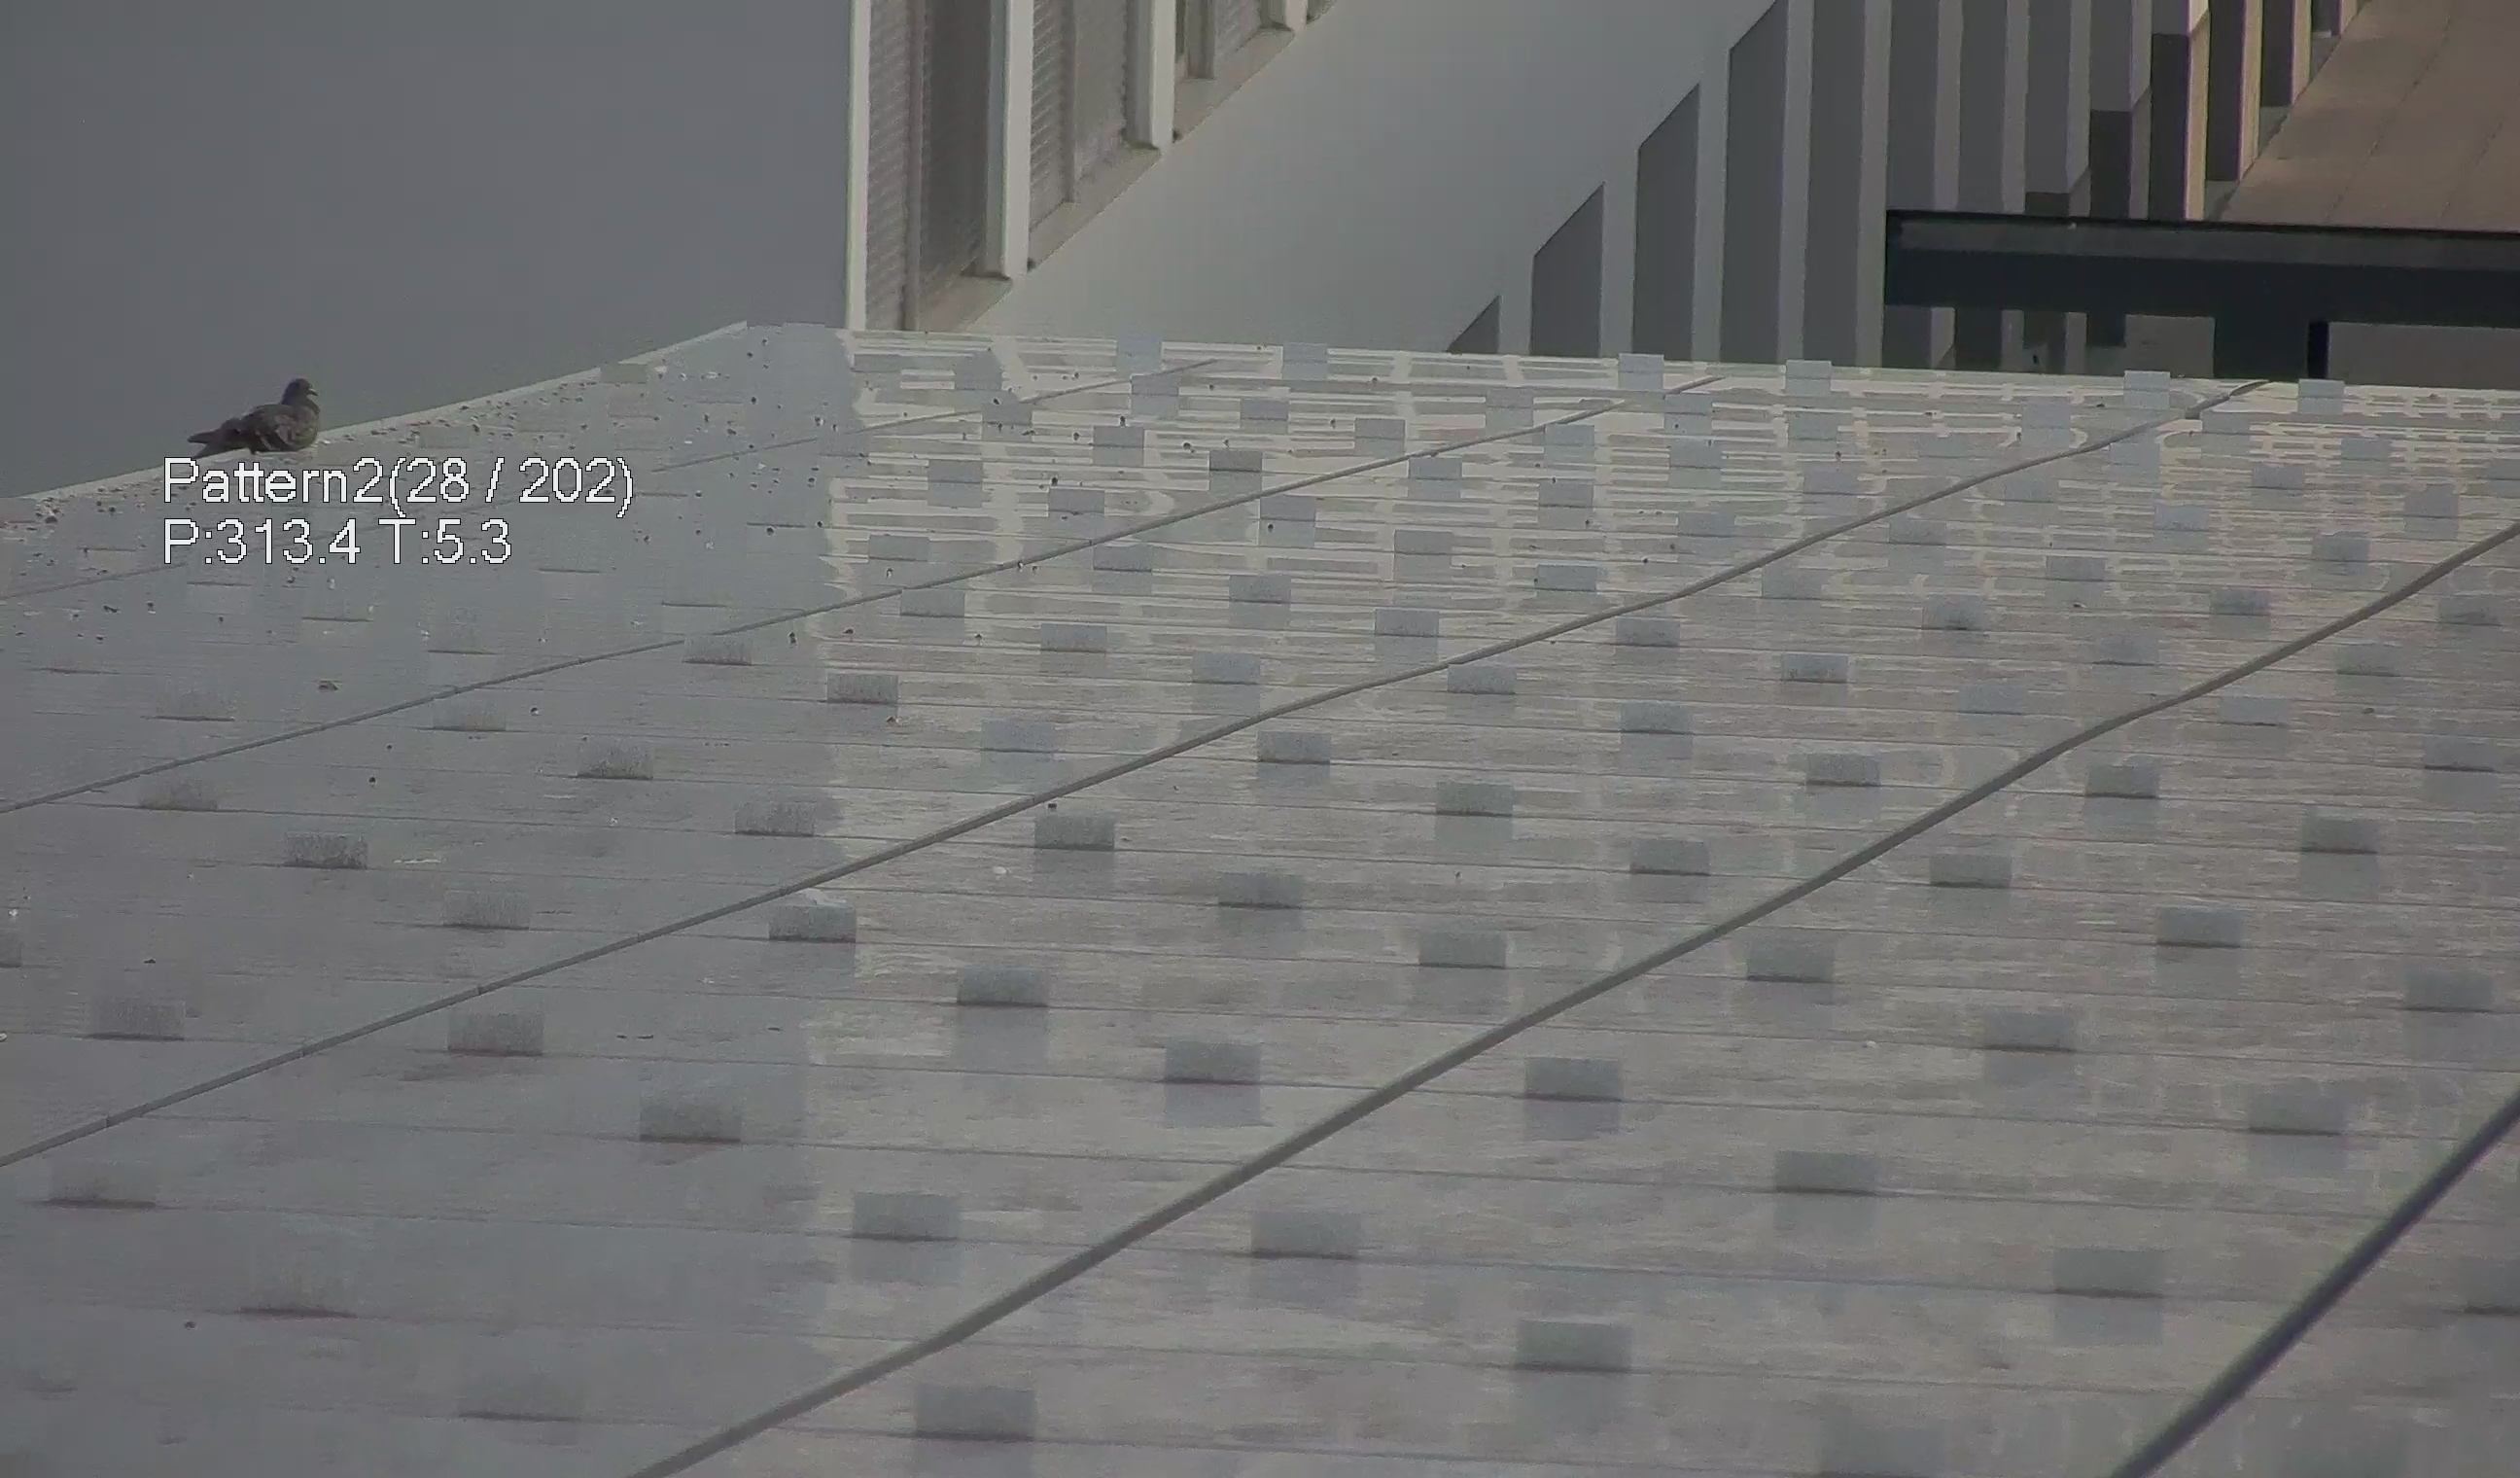Pigeon: (172, 366, 332, 463)
